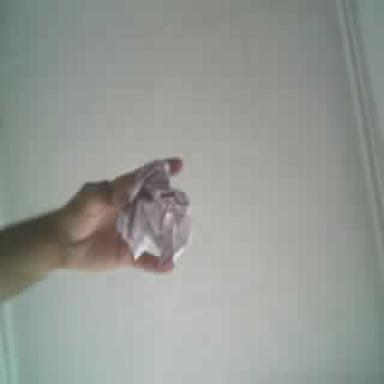paper: (116, 162, 190, 266)
